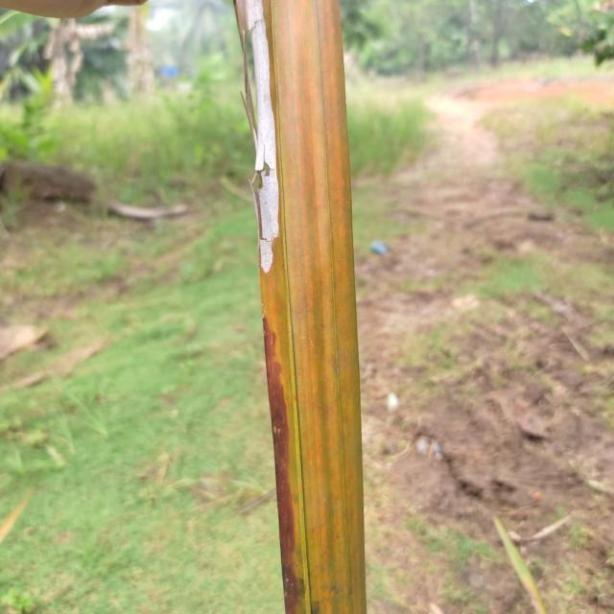Megnesium: (230, 0, 366, 614)
